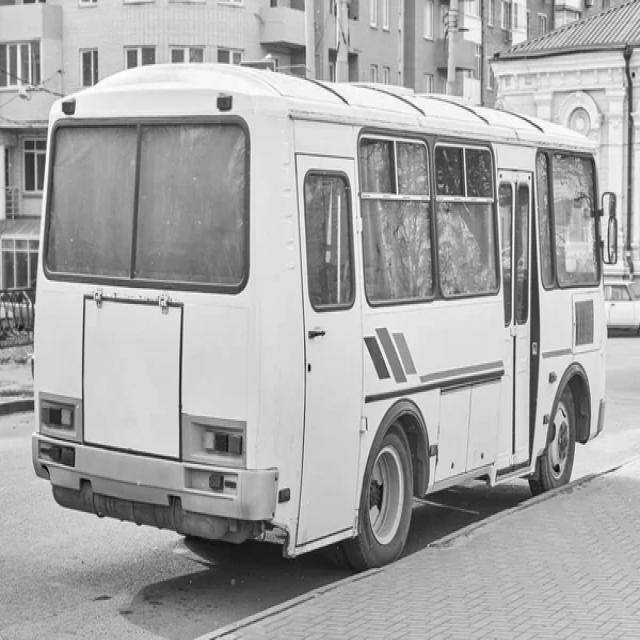Bus: (32, 64, 619, 569)
